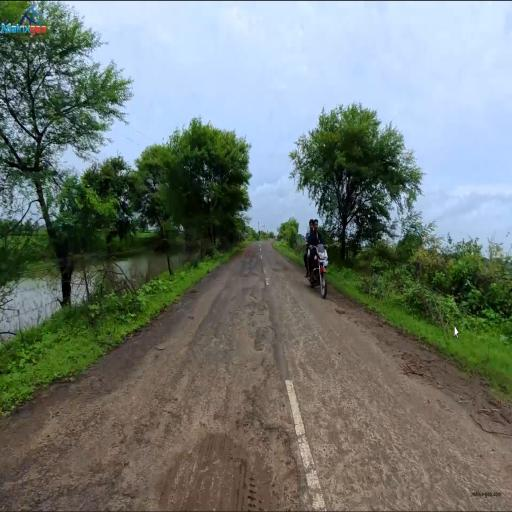ravelling: (247, 352, 373, 480)
